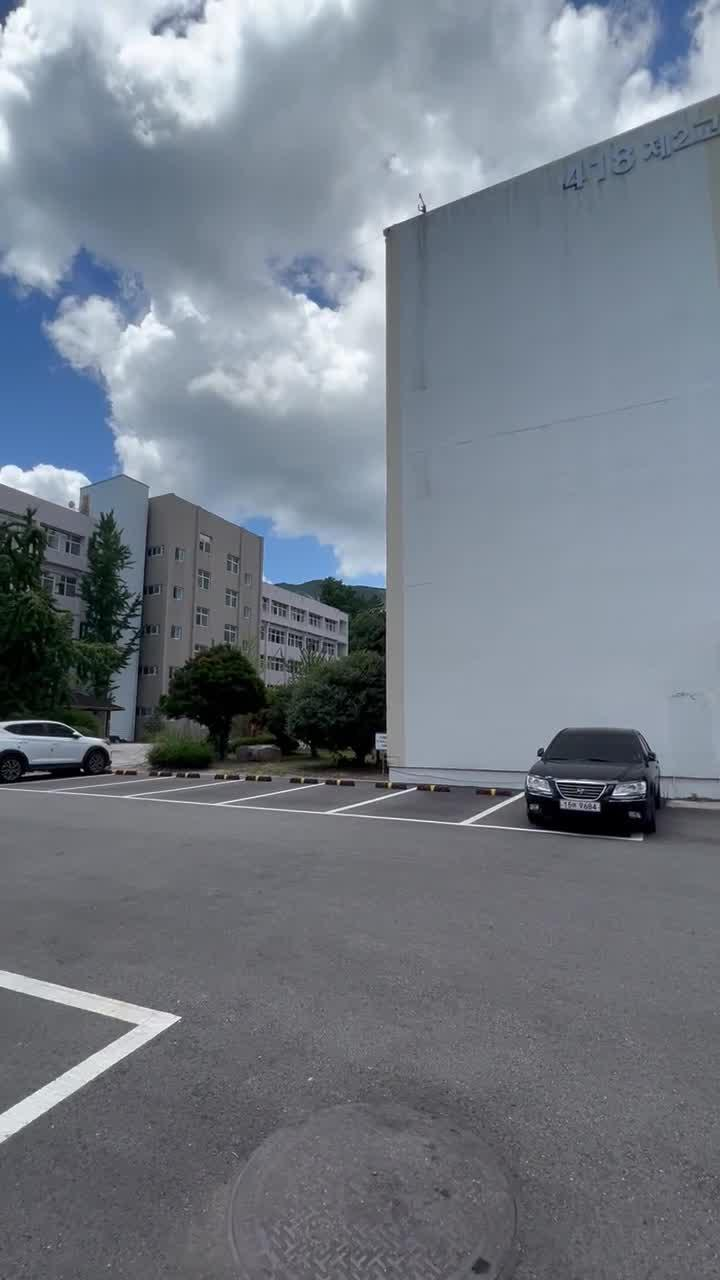building: (106, 508, 294, 664)
